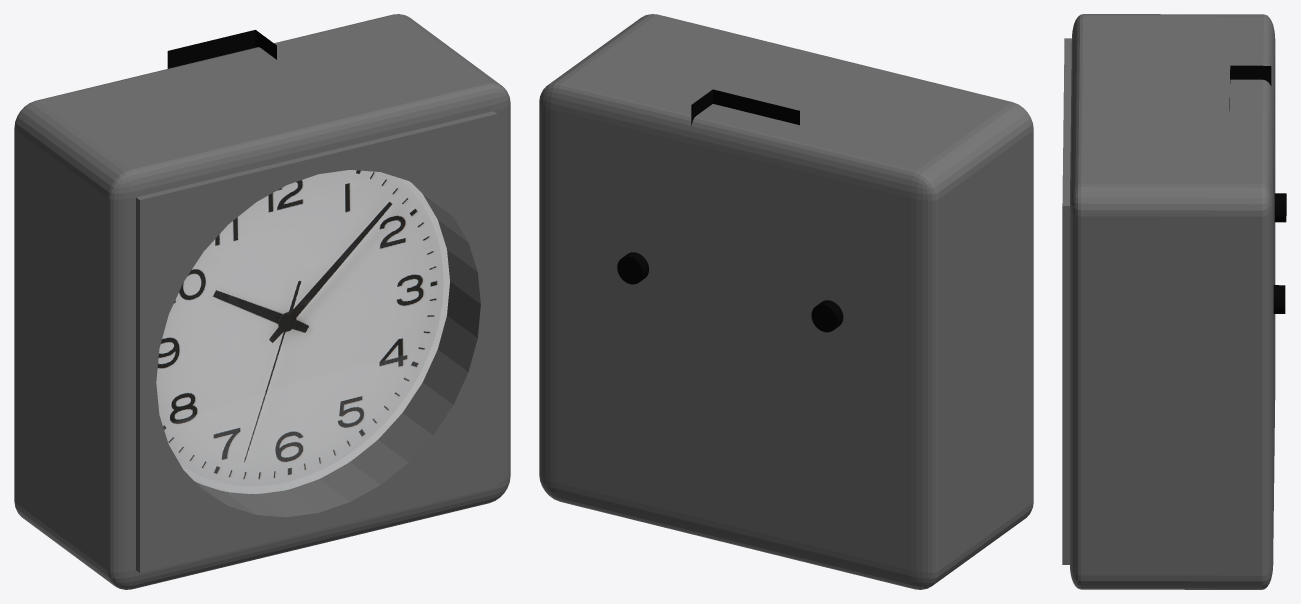
File: clock004.fbx
3 views of the same model, side by side, from view 1: azimuth 30°, elevation 25°; view 2: azimuth 150°, elevation 25°; view 3: azimuth 270°, elevation 25° (orthographic). The views are drawn at different scales.
Parts seen in each view (by area): view 1: Cube; view 2: Cube; view 3: Cube.
Part boxes in pixels (x1,y1,x2,y2): Cube: [14, 14, 510, 589]; Cube: [539, 14, 1033, 589]; Cube: [1062, 14, 1286, 589].
Size of the model in its own units: 200 by 207 by 101.
